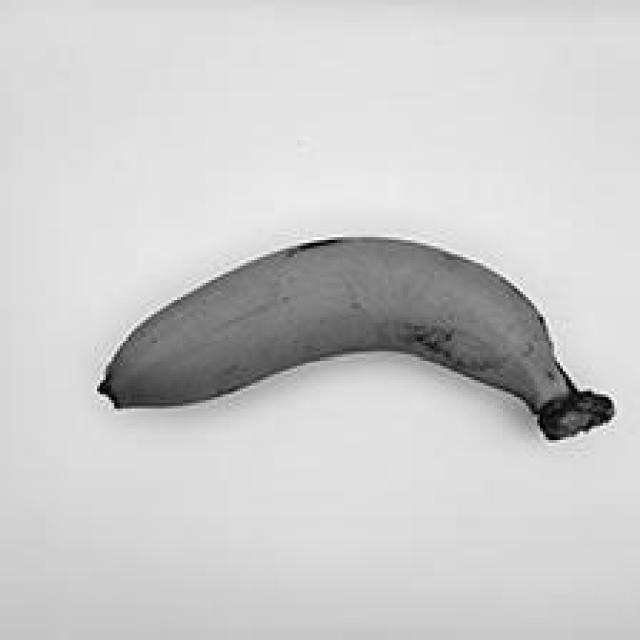Raw: (70, 207, 621, 463)
